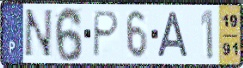1: (199, 8, 215, 63)
6: (53, 5, 84, 63), (125, 9, 150, 60)
A: (156, 11, 190, 59)
N: (22, 8, 54, 60)
P: (91, 10, 121, 59)
